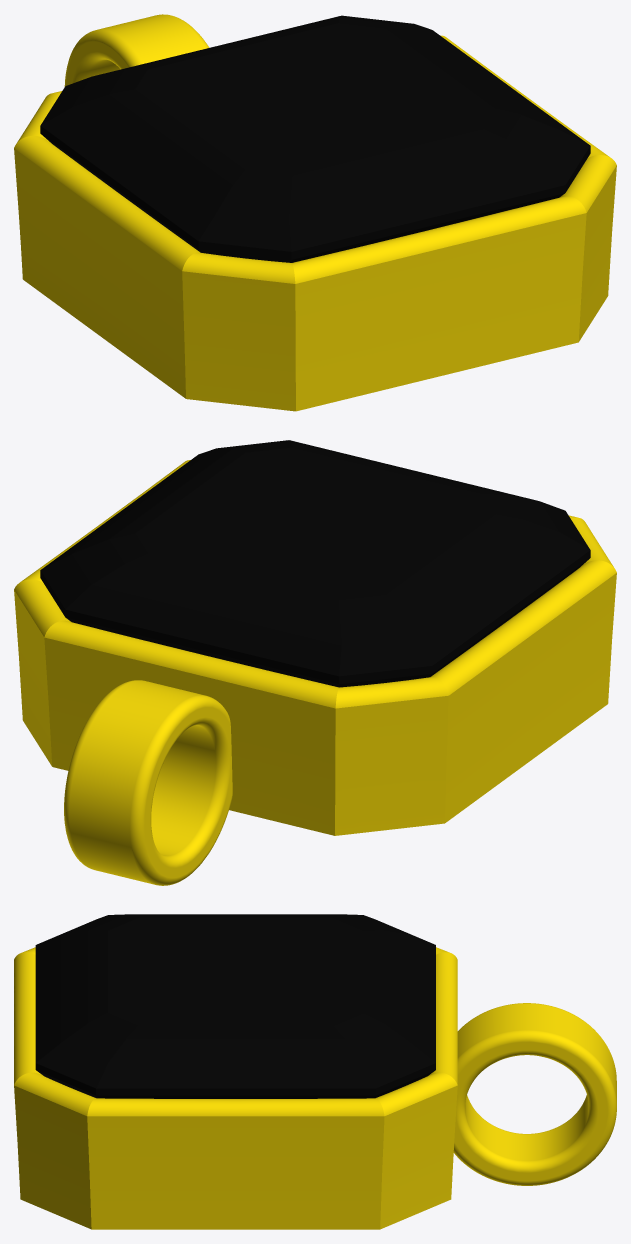
Rendered from pendant-square.glb.
3 renders of one model, top to bottom at view 1: azimuth 30°, elevation 25°; view 2: azimuth 150°, elevation 25°; view 3: azimuth 270°, elevation 25°, orthographic. The views are drawn at different scales.
Visible parts, largest first — view 1: object 1, Diamond_Emerald Square; view 2: object 1, Diamond_Emerald Square; view 3: object 1, Diamond_Emerald Square.
Boxes of the visible parts, left/top/right/bottom form: object 1: left=14, top=14, right=616, bottom=411; Diamond_Emerald Square: left=40, top=15, right=590, bottom=262; object 1: left=14, top=460, right=616, bottom=885; Diamond_Emerald Square: left=40, top=440, right=590, bottom=687; object 1: left=14, top=947, right=616, bottom=1229; Diamond_Emerald Square: left=35, top=914, right=435, bottom=1098.
Size of the model in its own units: 0.00998 by 0.00497 by 0.0136.
